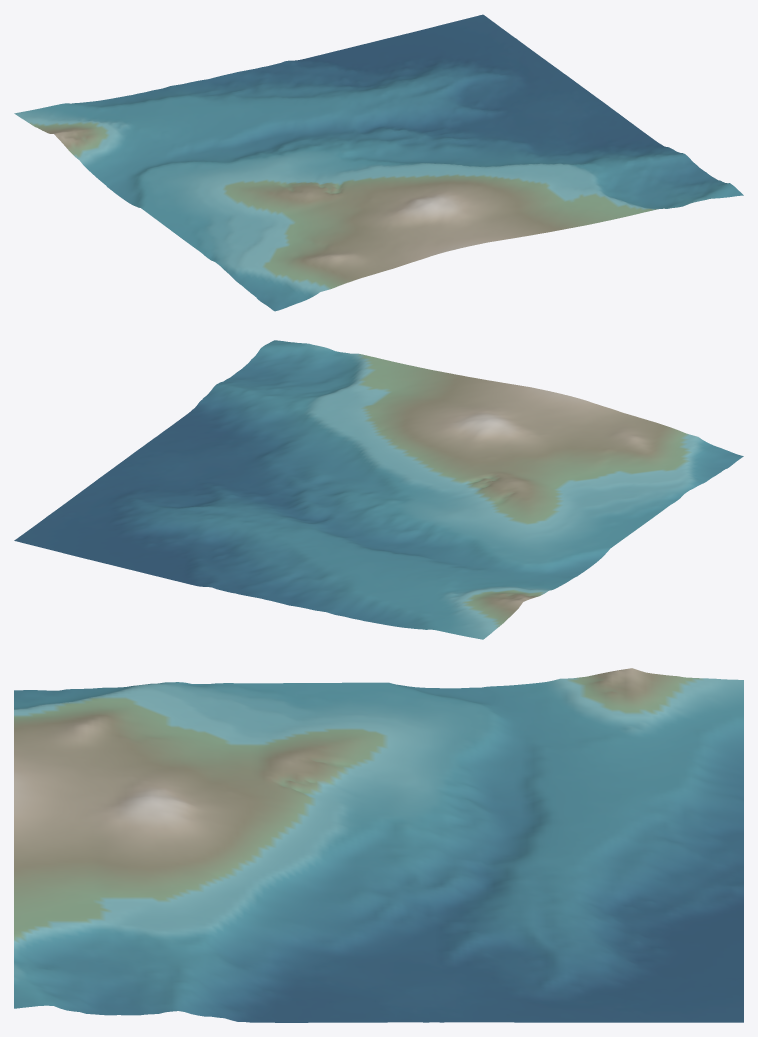
File: retry3d-mauna-kea.glb
3 renders of one model, top to bottom at view 1: azimuth 30°, elevation 25°; view 2: azimuth 150°, elevation 25°; view 3: azimuth 270°, elevation 25°, orthographic. The views are drawn at different scales.
Parts seen in each view (by area): view 1: mauna-kea; view 2: mauna-kea; view 3: mauna-kea.
Part boxes in pixels (x1,y1,x2,y2): mauna-kea: [14, 14, 743, 311]; mauna-kea: [14, 340, 743, 639]; mauna-kea: [14, 668, 743, 1022].
Bounding box in the file's own units: 160575 × 9867 × 154456.
